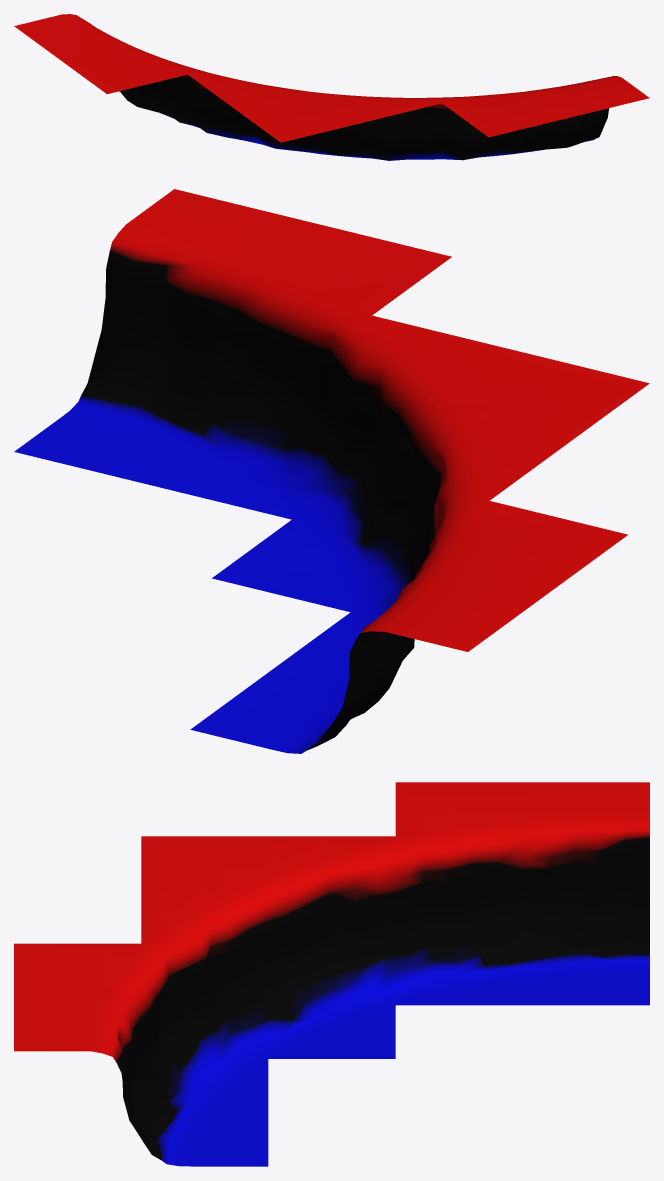
The model's file is RiveCliff05A Background.fbx.
The picture shows the model from 3 angles, top to bottom: view 1: azimuth 30°, elevation 25°; view 2: azimuth 150°, elevation 25°; view 3: azimuth 270°, elevation 25°; orthographic projection. The views are drawn at different scales.
Visible parts, largest first — view 1: RiveCliff05A Background; view 2: RiveCliff05A Background; view 3: RiveCliff05A Background.
Part boxes in pixels (box(x1,y1,x2,y2)): RiveCliff05A Background: box(14, 14, 649, 160); RiveCliff05A Background: box(14, 189, 649, 753); RiveCliff05A Background: box(14, 782, 649, 1166).
Size of the model in its own units: 5 by 1 by 5.
